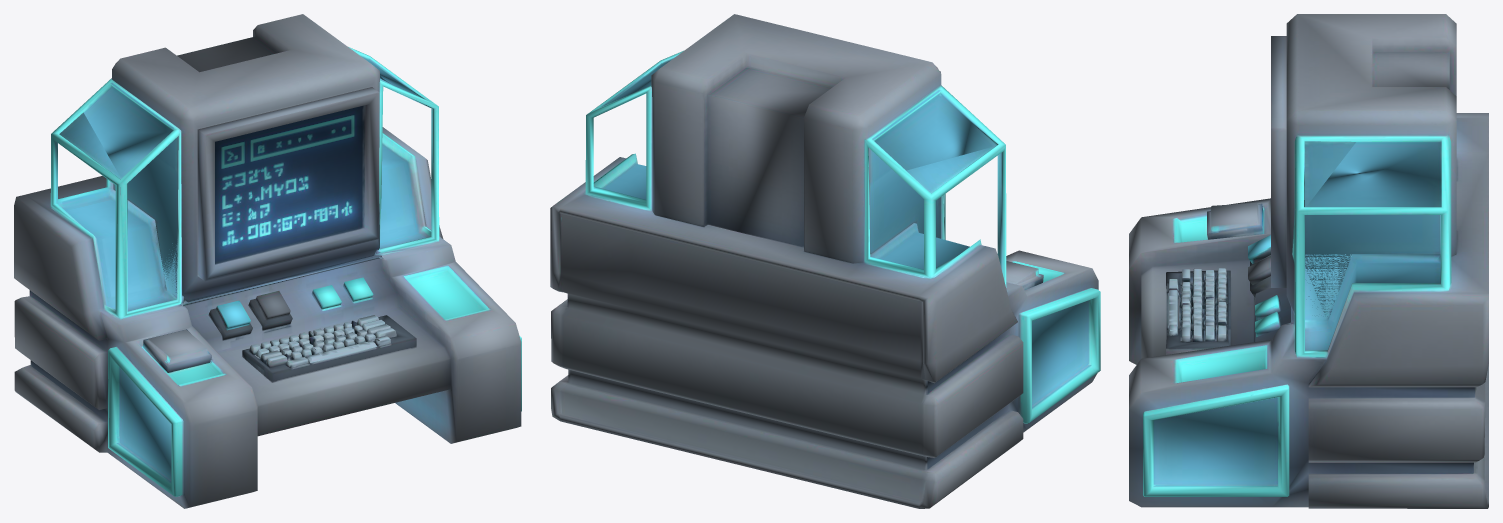
Rendered from 019e67dc-720a-7099-a9e1-22364abc696b.glb.
3 renders of one model, left to right at view 1: azimuth 30°, elevation 25°; view 2: azimuth 150°, elevation 25°; view 3: azimuth 270°, elevation 25°, orthographic. The views are drawn at different scales.
Parts seen in each view (by area): view 1: tripo_node_719379a7-7945-4fe6-94aa-3a65288c8ab0; view 2: tripo_node_719379a7-7945-4fe6-94aa-3a65288c8ab0; view 3: tripo_node_719379a7-7945-4fe6-94aa-3a65288c8ab0.
Boxes of the visible parts, x1,y1,x2,y2 form: tripo_node_719379a7-7945-4fe6-94aa-3a65288c8ab0: (14,14,521,508); tripo_node_719379a7-7945-4fe6-94aa-3a65288c8ab0: (550,14,1100,508); tripo_node_719379a7-7945-4fe6-94aa-3a65288c8ab0: (1129,14,1488,508).
Size of the model in its own units: 0.998 by 0.8809 by 0.8027.
1 material, 1 textured.
